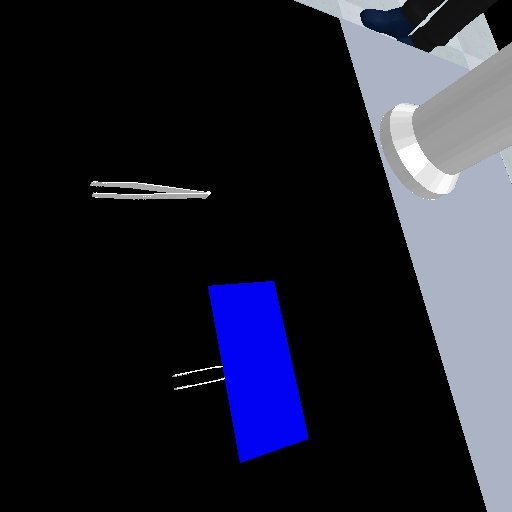pinza: (88, 176, 214, 203), (170, 362, 227, 392)
